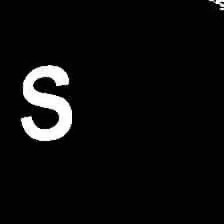LTR_S: (13, 58, 78, 145)
